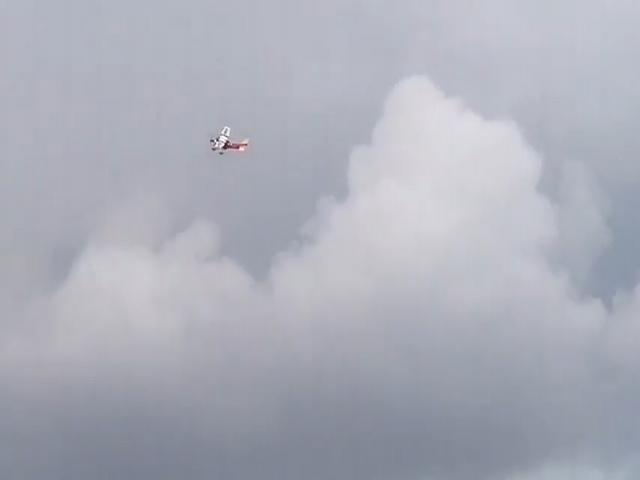plane: (209, 126, 250, 158)
